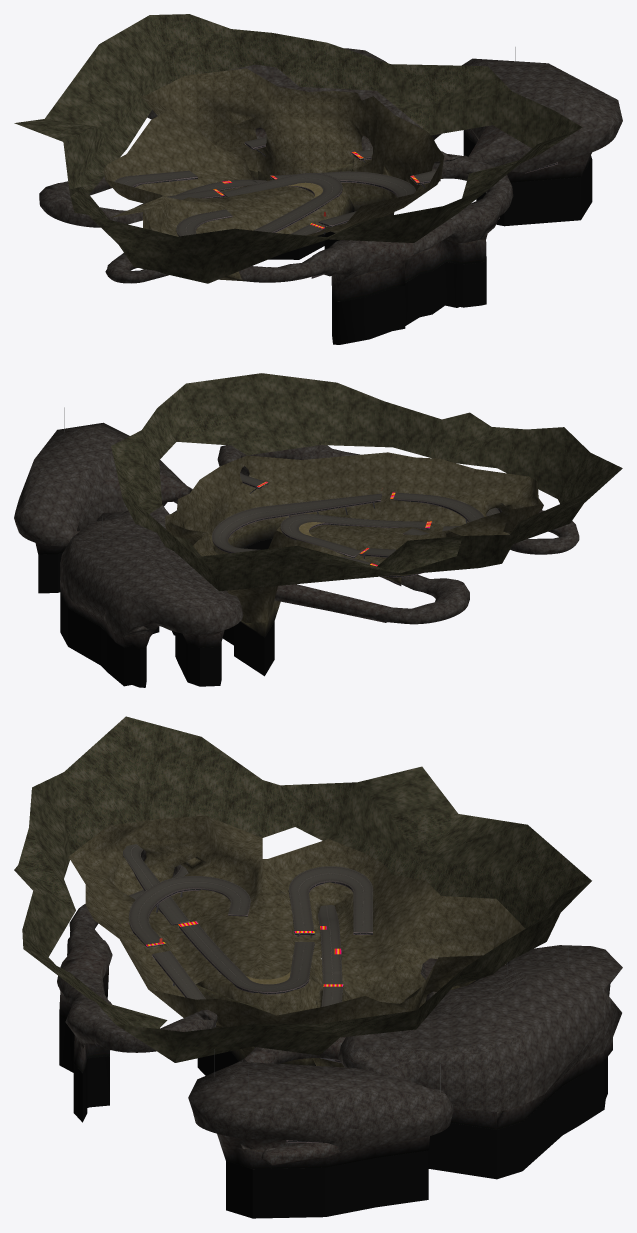
3 views of the same model, one above another, from view 1: azimuth 30°, elevation 25°; view 2: azimuth 150°, elevation 25°; view 3: azimuth 270°, elevation 25° (orthographic). The views are drawn at different scales.
Visible parts, largest first — view 1: th-210-1-SKP--farwall.001, th-210-1-SKP--wall.001, th-210-1-SKP--wall, th-210-1-SKP--dark, th-210-1-SKP--fence, th-210-1-SKP--farwall.002, th-210-1-SKP--wall.002, th-210-1-SKP--farwall.003, th-210-1-SKP--farwall.004; view 2: th-210-1-SKP--farwall.001, th-210-1-SKP--wall, th-210-1-SKP--wall.001, th-210-1-SKP--dark, th-210-1-SKP--fence, th-210-1-SKP--wall.002, th-210-1-SKP--farwall.002, th-210-1-SKP--farwall.003, th-210-1-SKP--farwall.004; view 3: th-210-1-SKP--farwall.001, th-210-1-SKP--wall, th-210-1-SKP--wall.001, th-210-1-SKP--dark, th-210-1-SKP--fence, th-210-1-SKP--farwall.002, th-210-1-SKP--wall.002, th-210-1-SKP--farwall.003, th-210-1-SKP--fence.005.
Boxes of the visible parts, x1,y1,x2,y2 form: th-210-1-SKP--farwall.001: [14, 14, 582, 283]; th-210-1-SKP--wall.001: [103, 68, 444, 281]; th-210-1-SKP--wall: [39, 48, 622, 283]; th-210-1-SKP--dark: [268, 130, 592, 344]; th-210-1-SKP--fence: [114, 137, 436, 283]; th-210-1-SKP--farwall.002: [331, 129, 591, 301]; th-210-1-SKP--wall.002: [255, 125, 591, 272]; th-210-1-SKP--farwall.003: [115, 142, 557, 278]; th-210-1-SKP--farwall.004: [250, 163, 394, 233]; th-210-1-SKP--farwall.001: [111, 373, 622, 591]; th-210-1-SKP--wall: [14, 422, 579, 637]; th-210-1-SKP--wall.001: [165, 452, 543, 622]; th-210-1-SKP--dark: [38, 538, 274, 687]; th-210-1-SKP--fence: [212, 472, 499, 564]; th-210-1-SKP--wall.002: [76, 473, 392, 635]; th-210-1-SKP--farwall.002: [35, 543, 224, 648]; th-210-1-SKP--farwall.003: [174, 481, 469, 622]; th-210-1-SKP--farwall.004: [230, 510, 350, 637]; th-210-1-SKP--farwall.001: [14, 716, 591, 1062]; th-210-1-SKP--wall: [58, 850, 622, 1152]; th-210-1-SKP--wall.001: [69, 815, 525, 1067]; th-210-1-SKP--dark: [59, 997, 607, 1218]; th-210-1-SKP--fence: [129, 844, 373, 1006]; th-210-1-SKP--farwall.002: [59, 972, 612, 1169]; th-210-1-SKP--wall.002: [57, 945, 437, 1165]; th-210-1-SKP--farwall.003: [58, 860, 373, 1143]; th-210-1-SKP--fence.005: [123, 845, 189, 924].
Bounding box in the file's own units: 142351 × 45350 × 111821.
19 materials, 19 textured.
